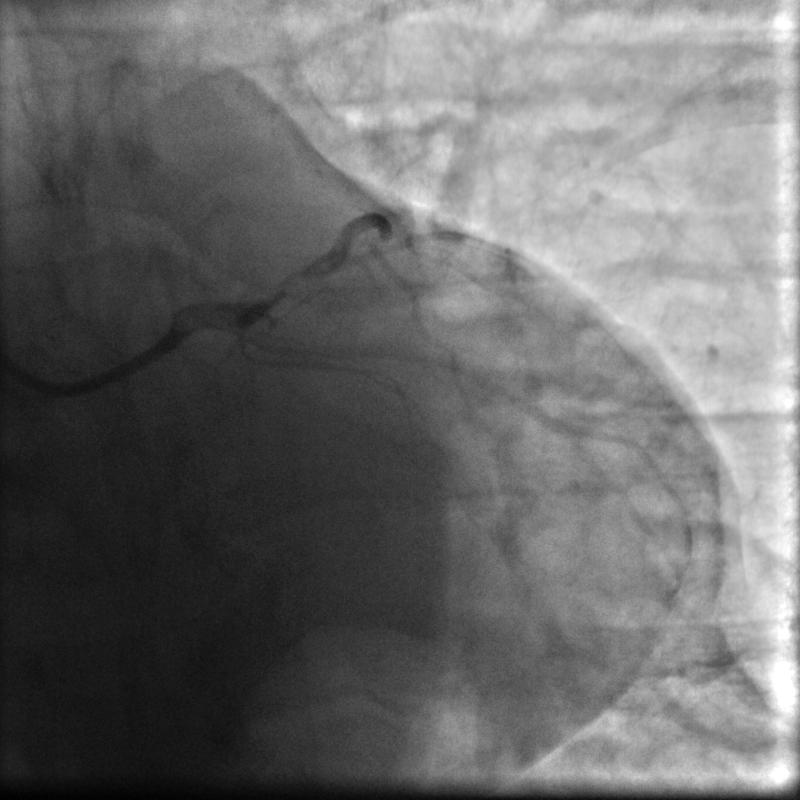Stenosis: (255, 258, 332, 299)
